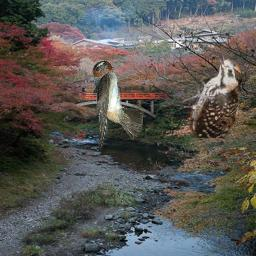Swallow: (92, 60, 143, 151)
Woodpecker: (179, 43, 242, 138)
